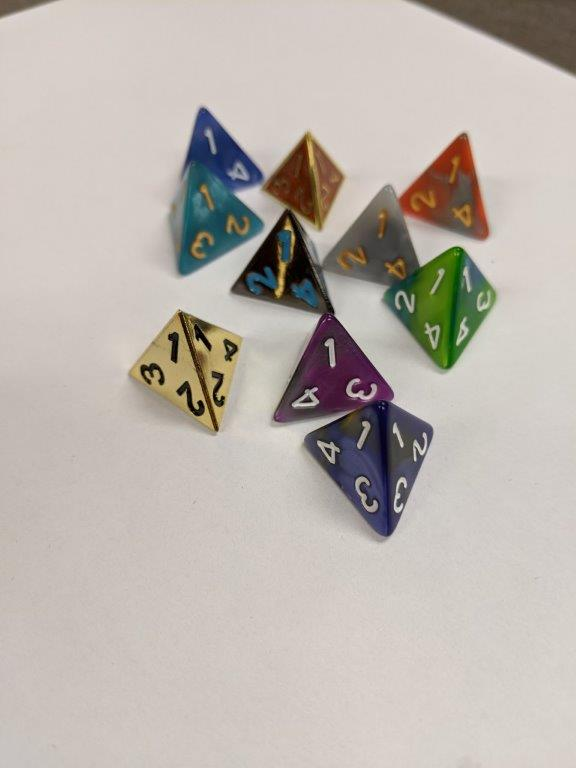d4-1: (301, 397, 436, 538), (129, 305, 245, 439), (383, 246, 502, 375), (273, 314, 392, 425), (227, 210, 337, 321), (392, 128, 491, 245), (162, 159, 261, 276), (317, 182, 420, 286), (260, 131, 349, 229), (179, 104, 261, 191)
